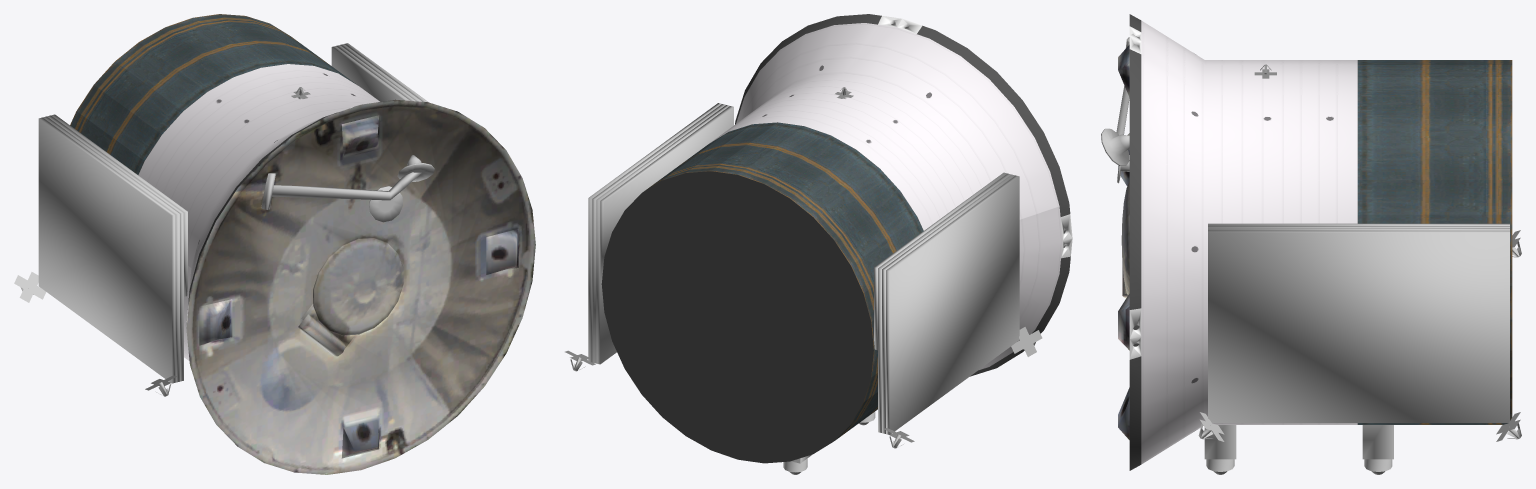
File: tma-service.obj
The picture shows the model from 3 angles, left to right: view 1: azimuth 30°, elevation 25°; view 2: azimuth 150°, elevation 25°; view 3: azimuth 270°, elevation 25°; orthographic projection. The views are drawn at different scales.
Visible parts, largest first — view 1: group8, group19, group6, group7, group12, group21, group20, group17, group16, group18; view 2: group13, group6, group19, group7, group21, group22, group25, group24, group1, group17, group20, group16 (+1 smaller); view 3: group24, group6, group7, group13, group1, group8, group12, group21, group22, group25, group23.
Part boxes in pixels (x1,y1,x2,y2): group8: (186,99,535,474); group19: (38,117,175,383); group6: (138,64,379,360); group7: (70,14,357,174); group12: (261,155,434,222); group21: (331,46,410,101); group20: (43,116,179,382); group17: (47,115,183,381); group16: (51,114,187,296); group18: (14,272,176,396); group13: (601,14,1070,463); group6: (710,23,1062,369); group19: (886,175,1019,434); group7: (644,122,923,440); group21: (600,106,733,282); group22: (596,105,729,364); group25: (592,104,725,363); group24: (588,103,721,362); group1: (783,16,1072,472); group17: (878,173,1011,432); group20: (882,174,1015,433); group16: (874,172,1007,350); group24: (1208,230,1509,422); group6: (1141,20,1357,464); group7: (1357,60,1512,424); group13: (1129,14,1141,470); group1: (1129,26,1393,471); group8: (1118,44,1129,439); group12: (1101,37,1129,183); group21: (1208,223,1509,225); group22: (1208,226,1509,228); group25: (1208,228,1509,230); group23: (1198,412,1521,441).
Size of the model in its own units: 2.77 by 2.9 by 2.52.
